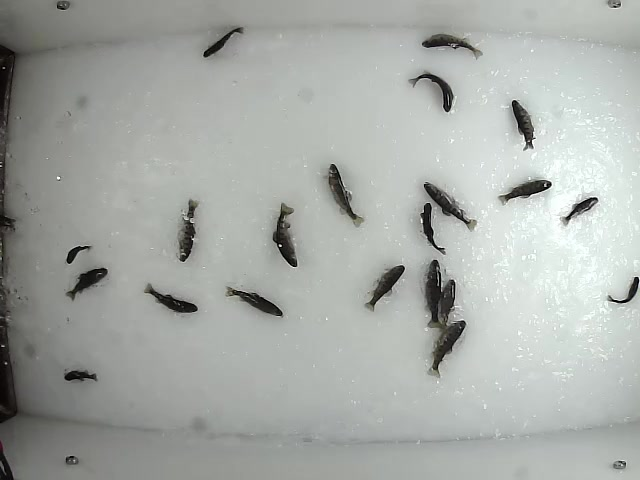fish: (423, 179, 481, 232), (326, 162, 367, 228), (424, 318, 467, 379), (362, 263, 405, 314), (223, 283, 285, 317), (409, 71, 457, 113), (141, 280, 199, 314), (271, 200, 299, 269), (172, 197, 201, 261), (416, 200, 450, 254), (419, 33, 484, 61), (61, 263, 107, 301), (496, 176, 556, 205), (424, 258, 447, 329), (556, 194, 599, 228), (510, 99, 536, 152), (203, 25, 245, 57), (435, 276, 458, 328), (604, 271, 640, 303), (64, 244, 91, 265), (62, 368, 98, 382)
